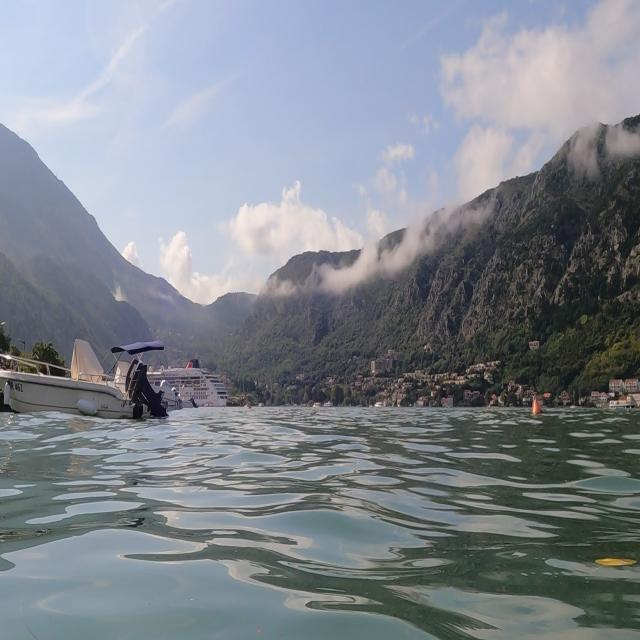boat: (2, 334, 172, 424), (136, 340, 242, 419)
buoy: (525, 387, 547, 421)
